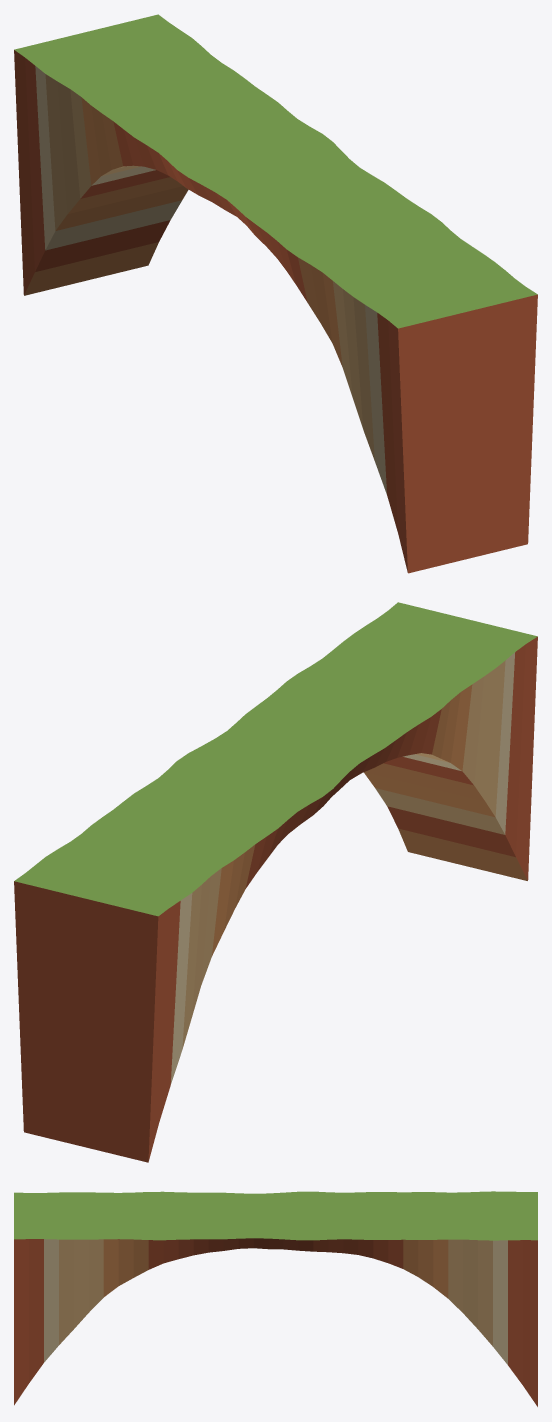
Rendered from ponte_d3.glb.
The picture shows the model from 3 angles, top to bottom: view 1: azimuth 30°, elevation 25°; view 2: azimuth 150°, elevation 25°; view 3: azimuth 270°, elevation 25°; orthographic projection. The views are drawn at different scales.
Visible parts, largest first — view 1: ponte_d3; view 2: ponte_d3; view 3: ponte_d3.
Part boxes in pixels (<box>): ponte_d3: <box>14,14,537,573</box>; ponte_d3: <box>14,602,537,1162</box>; ponte_d3: <box>14,1191,537,1406</box>.
Bounding box in the file's own units: 31.16 × 50.45 × 140.
